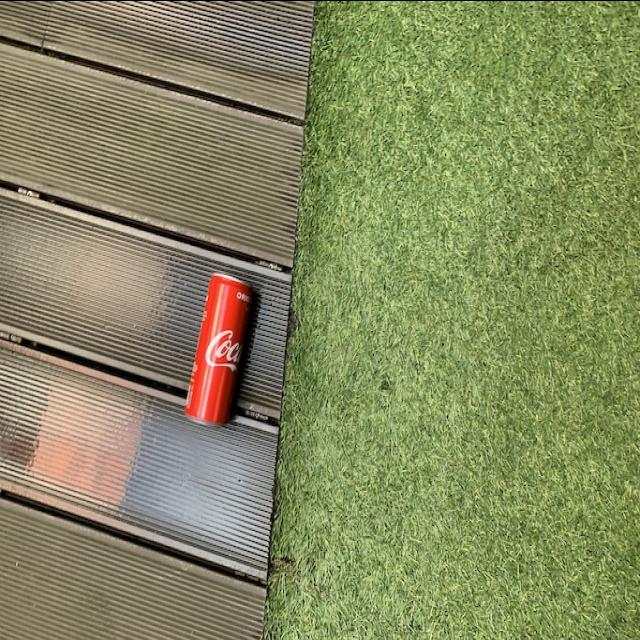litter: (182, 254, 260, 440)
